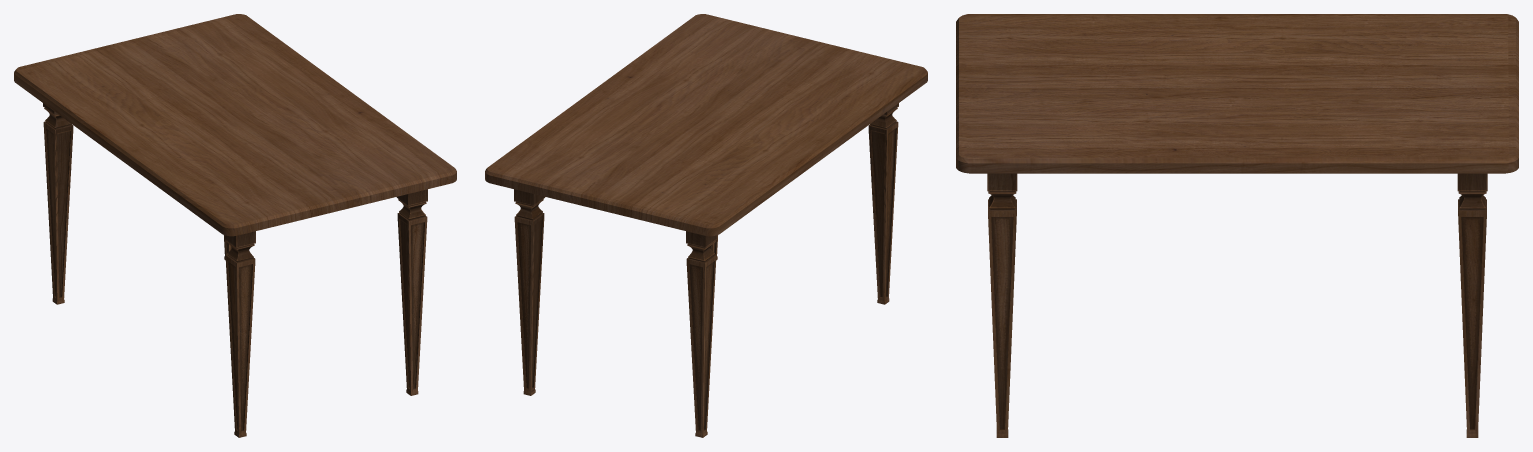
Rendered from classic_table.glb.
The picture shows the model from 3 angles, left to right: view 1: azimuth 30°, elevation 25°; view 2: azimuth 150°, elevation 25°; view 3: azimuth 270°, elevation 25°; orthographic projection. The views are drawn at different scales.
Visible parts, largest first — view 1: Box003; view 2: Box003; view 3: Box003.
Part boxes in pixels (x1,y1,x2,y2): Box003: [14, 14, 456, 437]; Box003: [485, 14, 927, 437]; Box003: [956, 14, 1518, 437].
Bounding box in the file's own units: 0.9755 × 0.9111 × 1.58.
1 material, 1 textured.
